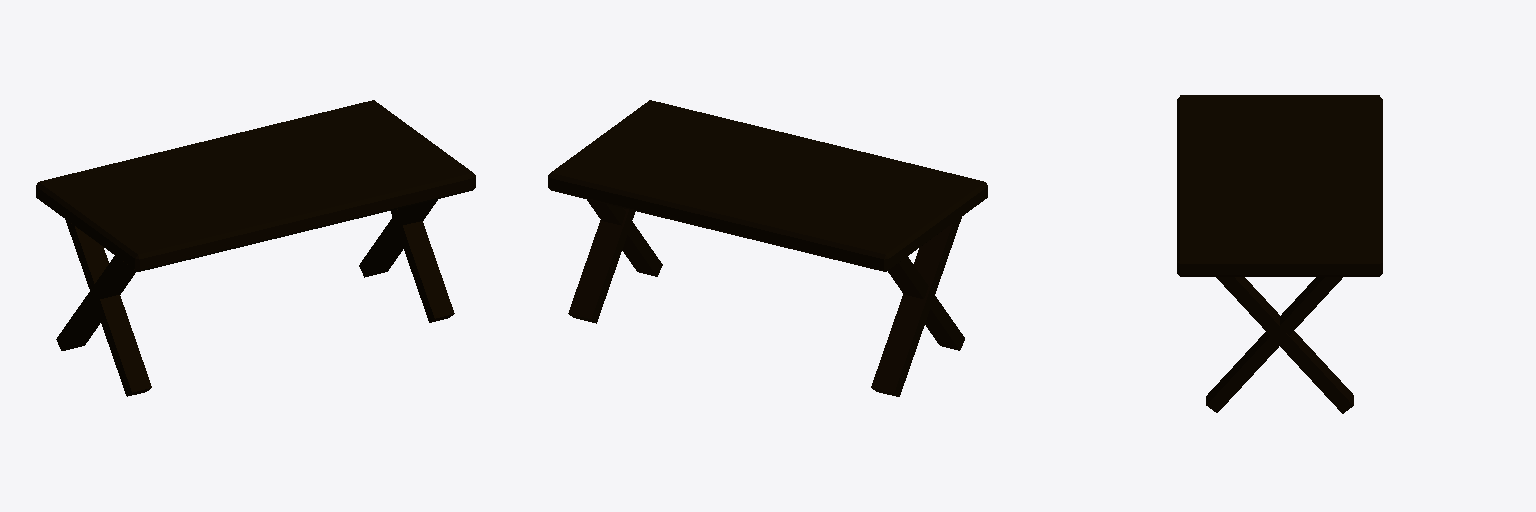
Rendered from Table3.obj.
3 renders of one model, left to right at view 1: azimuth 30°, elevation 25°; view 2: azimuth 150°, elevation 25°; view 3: azimuth 270°, elevation 25°, orthographic.
Parts seen in each view (by area): view 1: Table3_Cube.048; view 2: Table3_Cube.048; view 3: Table3_Cube.048.
Part boxes in pixels (x1,y1,x2,y2): Table3_Cube.048: (36, 100, 475, 396); Table3_Cube.048: (548, 100, 987, 396); Table3_Cube.048: (1177, 95, 1382, 413).
Bounding box in the file's own units: 2.13 × 0.9411 × 1.11.